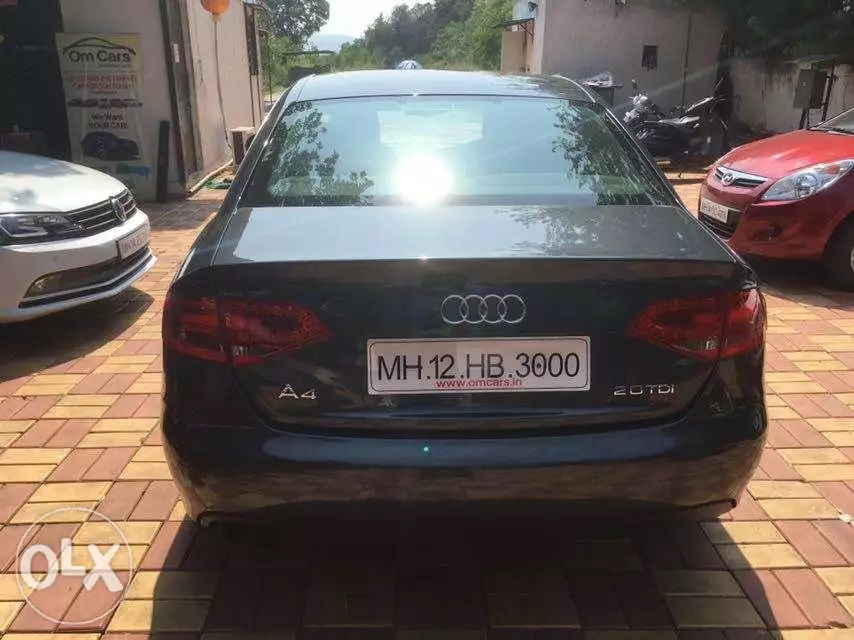licenseplate: (366, 334, 596, 391)
